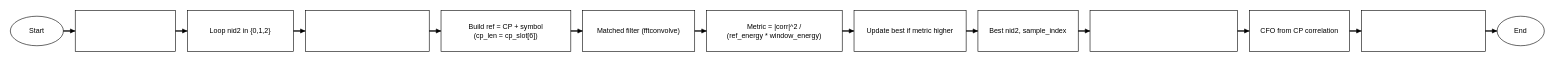
This 1555x62 diagram has some shape labels left out. Each missing label, with the centre of its shape:
"generate_pss_td (generate_pss_fd + IFFT)" belongs at (367,31).
"Input: x, LTEConfig" belongs at (125,31).
"Output: nid2, metric, index, CFO" belongs at (1423,31).
"slot_index = sample_index / slot_samples symbol_index = slot_index*7 + 6" belongs at (1163,31).
